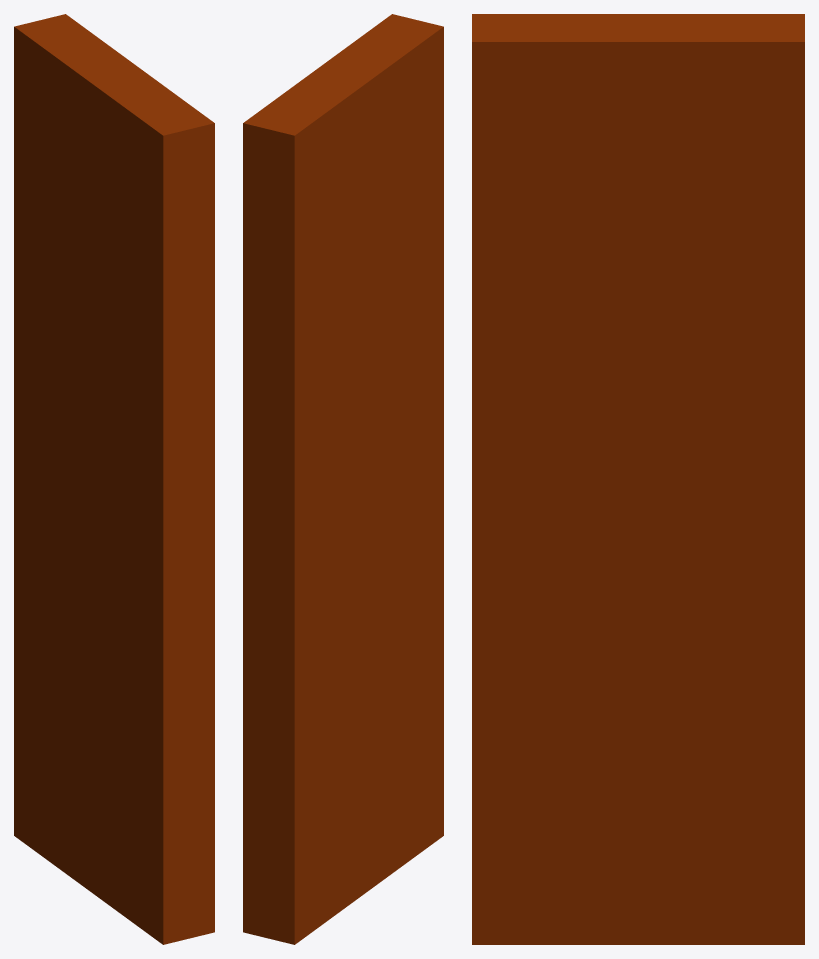
Rendered from wood_lp.fbx.
The picture shows the model from 3 angles, left to right: view 1: azimuth 30°, elevation 25°; view 2: azimuth 150°, elevation 25°; view 3: azimuth 270°, elevation 25°; orthographic projection. The views are drawn at different scales.
Parts seen in each view (by area): view 1: Cube; view 2: Cube; view 3: Cube.
Part boxes in pixels (x1,y1,x2,y2): Cube: (14,14,214,944); Cube: (243,14,443,944); Cube: (472,14,804,944).
Size of the model in its own units: 40 by 599 by 200.
